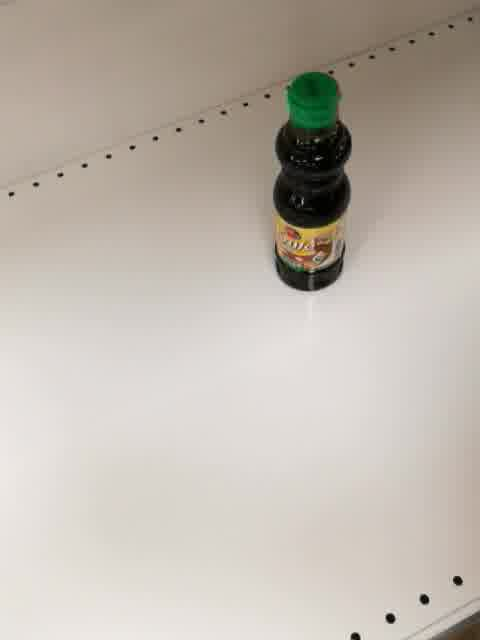cookingoil: (271, 70, 354, 295)
